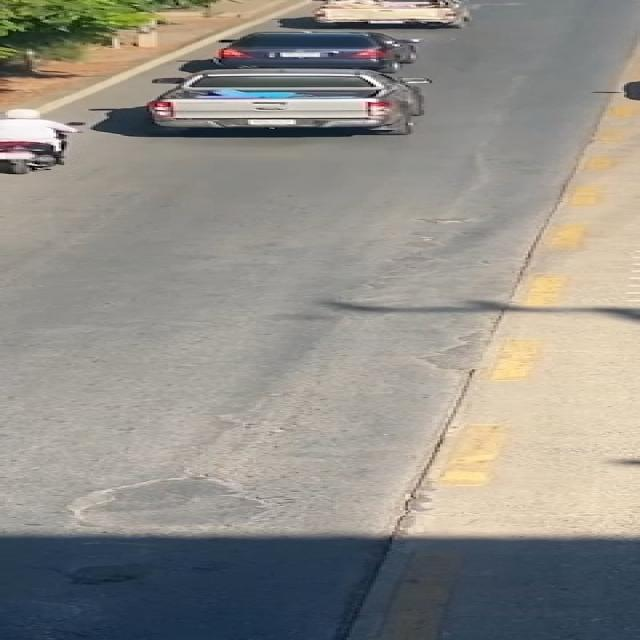car: (126, 68, 457, 140), (171, 30, 461, 68), (269, 0, 503, 29)
